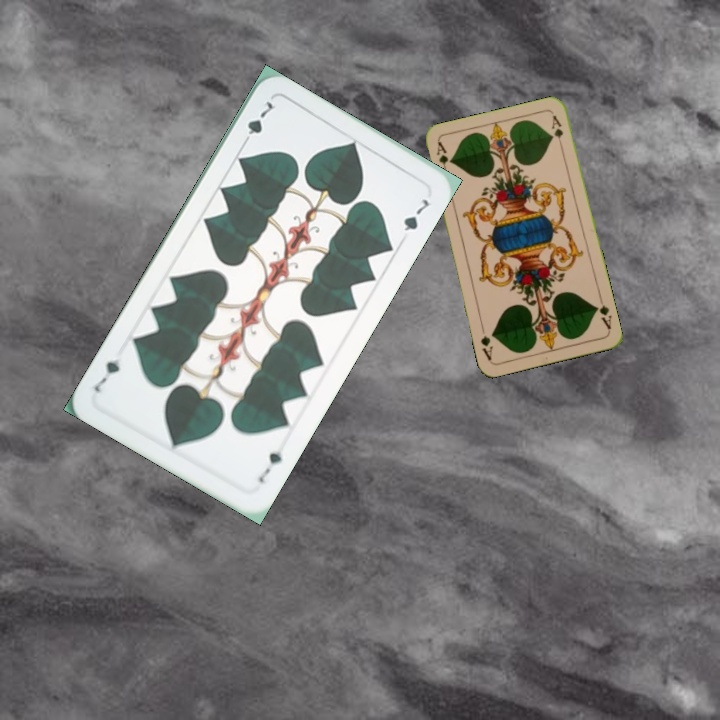G7: (237, 97, 279, 149), (254, 446, 285, 485)
GA: (591, 293, 614, 332), (433, 138, 451, 178)
